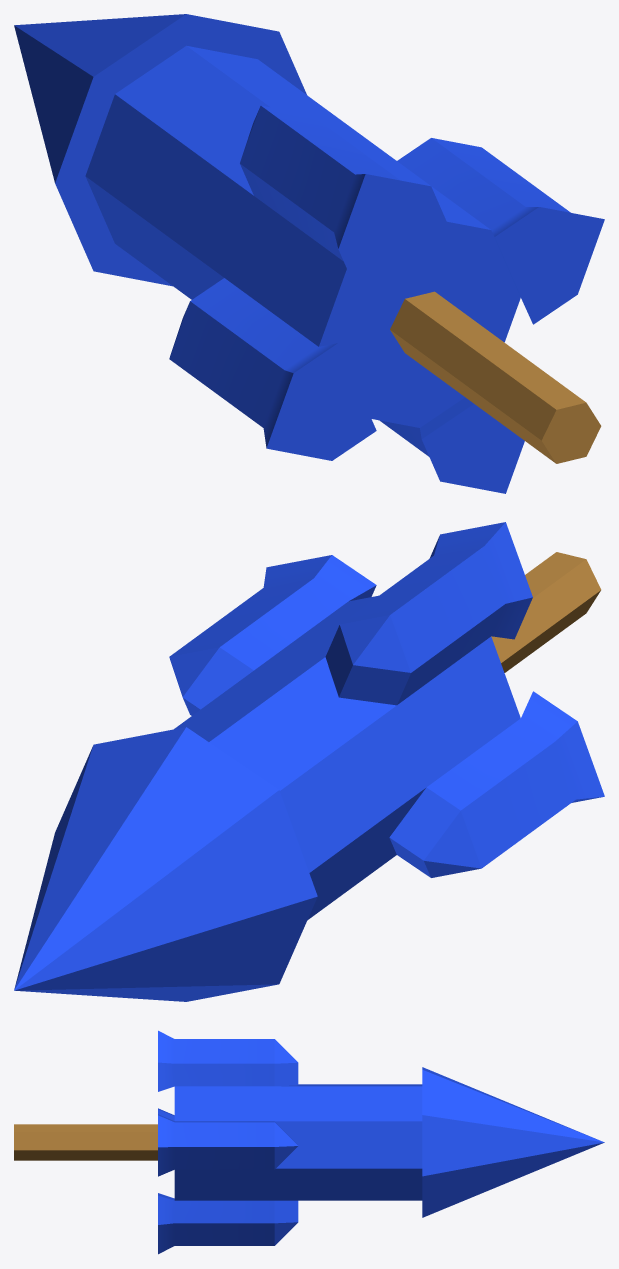
File: RoketFireFlower.fbx
3 renders of one model, top to bottom at view 1: azimuth 30°, elevation 25°; view 2: azimuth 150°, elevation 25°; view 3: azimuth 270°, elevation 25°, orthographic. The views are drawn at different scales.
Parts seen in each view (by area): view 1: pCone2; view 2: pCone2; view 3: pCone2.
Part boxes in pixels (x1,y1,x2,y2): pCone2: [14, 14, 604, 493]; pCone2: [14, 522, 604, 1001]; pCone2: [14, 1030, 604, 1254].
Bounding box in the file's own units: 33.5 × 33.5 × 95.56.
Materials: 1 (1 with a texture image).
